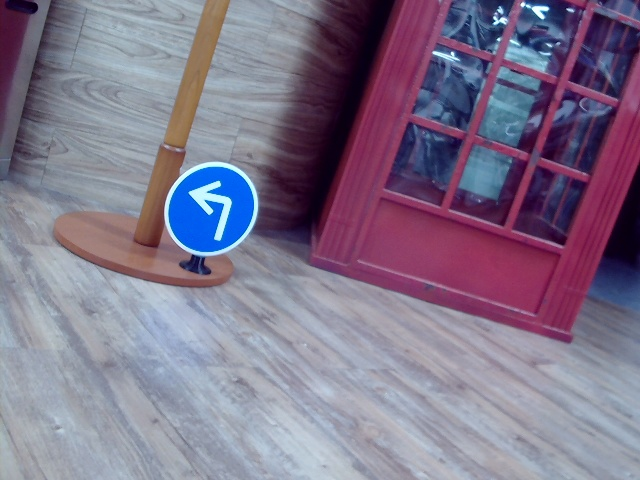turn_left: (188, 177, 234, 245)
